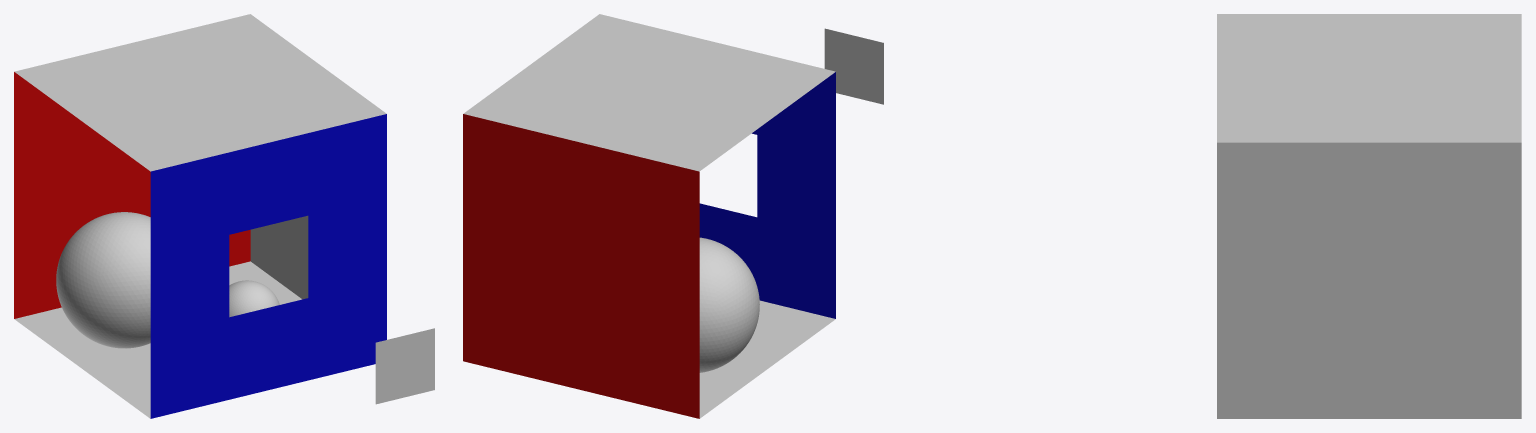
File: side_lit_box.obj
3 views of the same model, side by side, from view 1: azimuth 30°, elevation 25°; view 2: azimuth 150°, elevation 25°; view 3: azimuth 270°, elevation 25° (orthographic). The views are drawn at different scales.
Parts seen in each view (by area): view 1: Left_wall, Ceiling, Right_wall, Icosphere.001, Floor, Light, Back_wall, Icosphere; view 2: Right_wall, Ceiling, Left_wall, Icosphere.001, Floor, Light; view 3: Back_wall, Ceiling.
Boxes of the visible parts, x1,y1,x2,y2 form: Left_wall: (150, 114, 386, 418); Ceiling: (14, 14, 386, 171); Right_wall: (14, 72, 250, 318); Icosphere.001: (56, 212, 150, 348); Floor: (14, 261, 301, 418); Light: (375, 328, 434, 404); Back_wall: (250, 215, 308, 299); Icosphere: (229, 280, 279, 317); Right_wall: (463, 114, 699, 418); Ceiling: (463, 14, 835, 171); Left_wall: (699, 72, 835, 318); Icosphere.001: (699, 237, 759, 372); Floor: (699, 300, 835, 418); Light: (824, 28, 883, 104); Back_wall: (1217, 142, 1521, 418); Ceiling: (1217, 14, 1521, 142).
Size of the model in its own units: 2 by 2 by 4.
